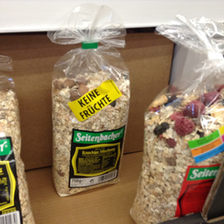cereal: (128, 88, 223, 224), (51, 44, 129, 198)
